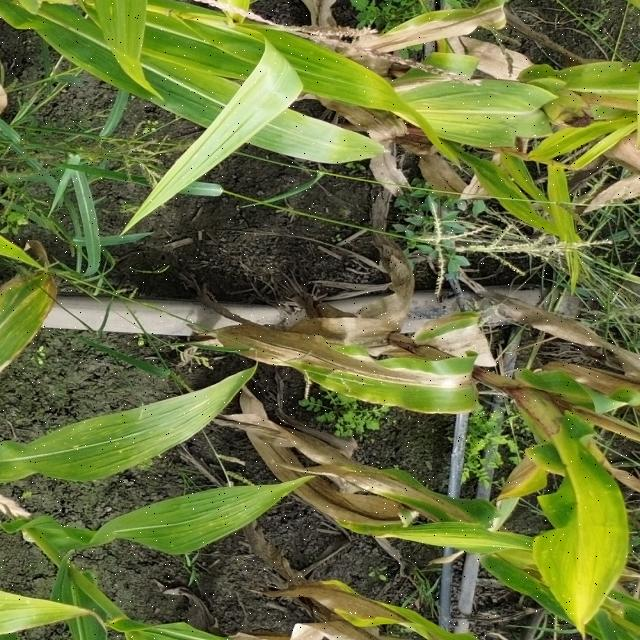northern-leaf-blight: (277, 324, 515, 402), (334, 466, 510, 542), (0, 258, 57, 378)
southern-leaf-blight: (103, 490, 269, 566), (48, 418, 181, 481)
